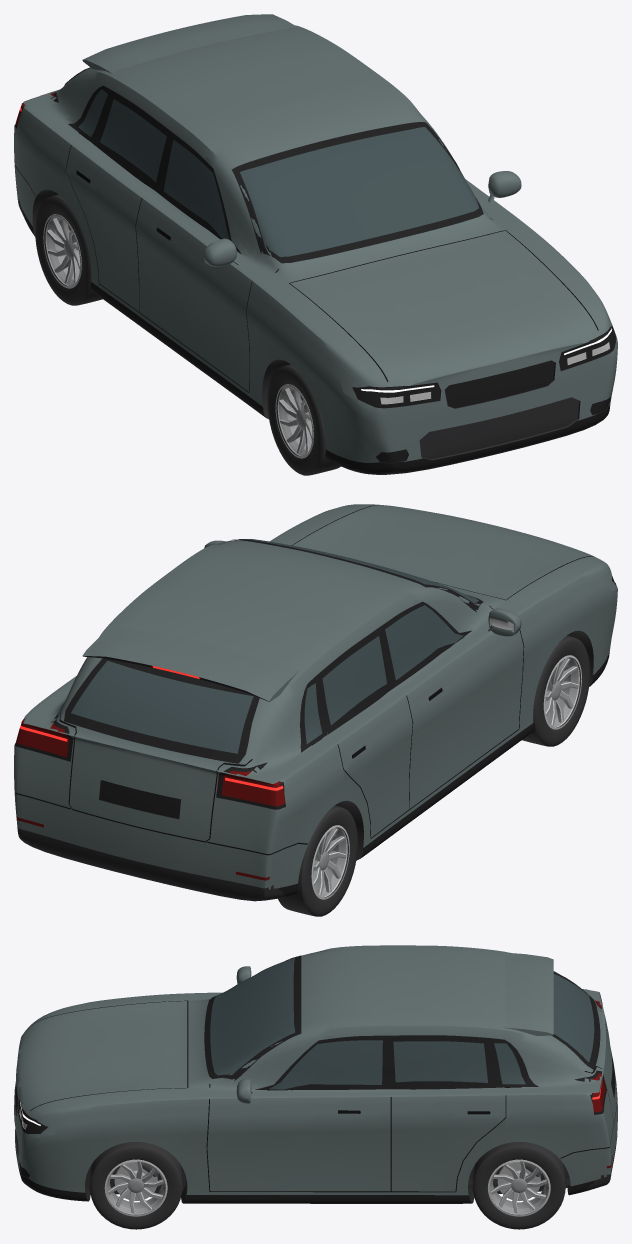
Rendered from Sabarmati-Right-Hand-Drive-Hatchback.glb.
The picture shows the model from 3 angles, top to bottom: view 1: azimuth 30°, elevation 25°; view 2: azimuth 150°, elevation 25°; view 3: azimuth 270°, elevation 25°; orthographic projection. The views are drawn at different scales.
Visible parts, largest first — view 1: body, glass_windshield, glass_side_R, wheel_FR_mesh, wheel_RR_mesh, spoiler, mirror_L, mirror_R; view 2: body, glass_rear, glass_side_R, spoiler, wheel_RR_mesh, wheel_FR_mesh, glass_windshield, mirror_R; view 3: body, glass_side_L, glass_windshield, wheel_FL_mesh, wheel_RL_mesh, spoiler, glass_rear.
Boxes of the visible parts, x1,y1,x2,y2 form: body: (14,25,617,474); glass_windshield: (231,122,483,263); glass_side_R: (68,85,241,254); wheel_FR_mesh: (267,364,340,475); wheel_RR_mesh: (35,194,102,305); spoiler: (82,14,299,73); mirror_L: (488,171,521,203); mirror_R: (203,238,240,266); body: (14,504,617,901); glass_rear: (64,658,259,763); glass_side_R: (300,601,472,752); spoiler: (82,625,299,701); wheel_RR_mesh: (278,805,357,916); wheel_FR_mesh: (522,635,590,746); glass_windshield: (232,539,483,611); mirror_R: (488,608,521,636); body: (14,945,617,1203); glass_side_L: (255,1035,538,1090); glass_windshield: (204,955,301,1080); wheel_FL_mesh: (89,1141,182,1229); wheel_RL_mesh: (472,1141,565,1229); spoiler: (503,952,553,1035); glass_rear: (552,972,600,1069).
Bounding box in the file's own units: 2.03 × 1.47 × 4.1.
